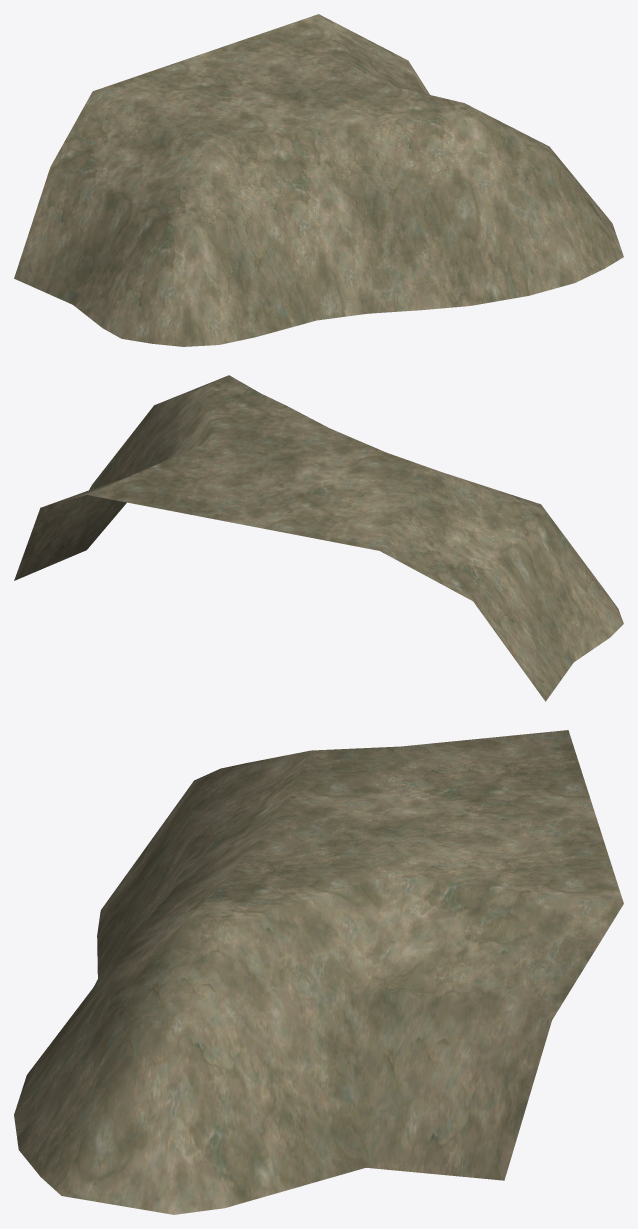
Rendered from OVERHILL_A_01_OBJECT163.obj.
The picture shows the model from 3 angles, top to bottom: view 1: azimuth 30°, elevation 25°; view 2: azimuth 150°, elevation 25°; view 3: azimuth 270°, elevation 25°; orthographic projection. The views are drawn at different scales.
Parts seen in each view (by area): view 1: Object163; view 2: Object163; view 3: Object163.
Boxes of the visible parts, box(x1,y1,x2,y2) form: Object163: box(14, 14, 623, 346); Object163: box(14, 375, 623, 701); Object163: box(14, 730, 623, 1214).
Bounding box in the file's own units: 2612 × 688 × 1817.
